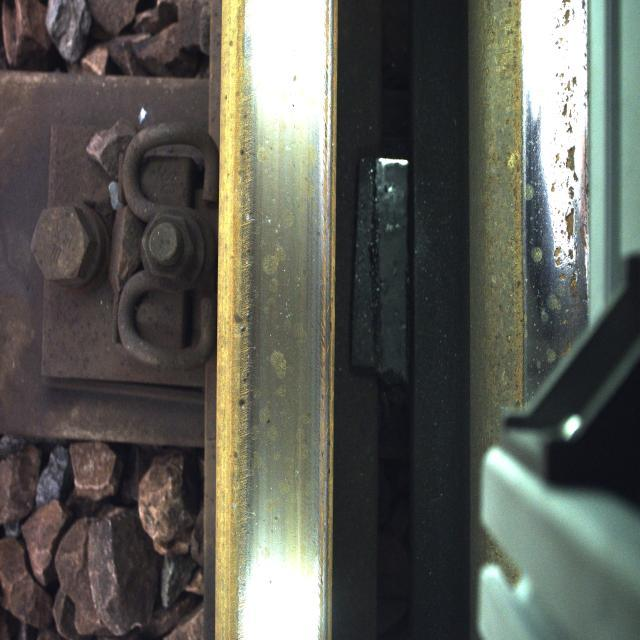normal: (229, 12, 301, 592)
scar: (526, 9, 588, 354)
